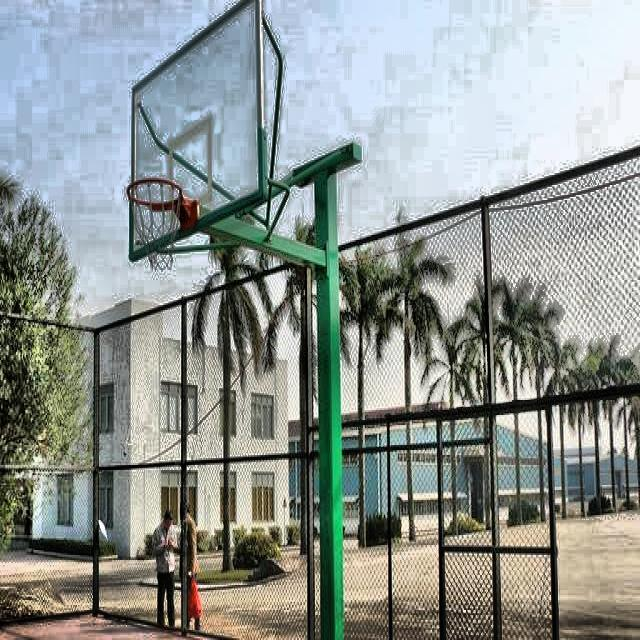rim: (125, 176, 183, 269)
